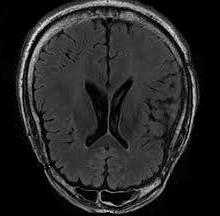Normal_Brain: (14, 1, 205, 216)
